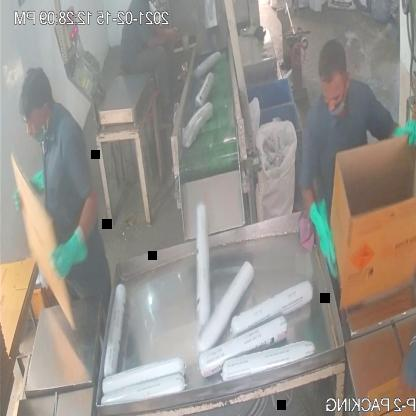glove: (42, 192, 96, 290), (304, 185, 346, 280), (13, 164, 49, 216), (385, 118, 416, 160)
no_glove: (138, 14, 180, 58)
